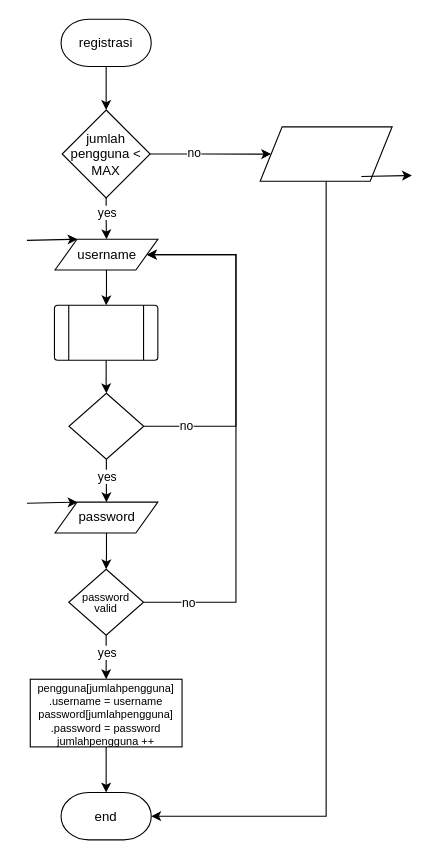
This 440x859 diagram has some shape labels left out. The shapes that lost their labels are listed below. From the top down, each one's centre as x and y in pixels, then its label:
pixel 325 153: "data pengguna penuh"
pixel 105 332: cek_username
pixel 106 425: username valid
